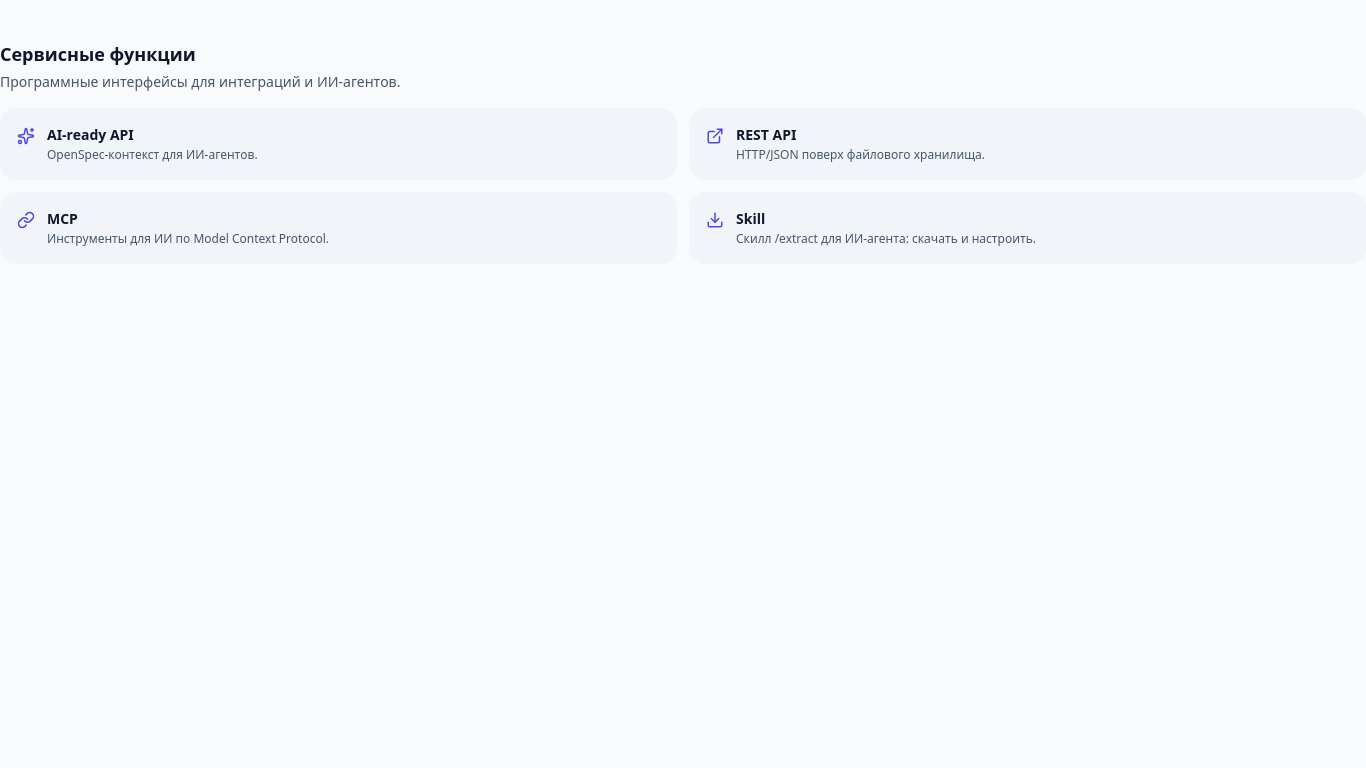
ServicesSection (E13 · revised — Start screen) › opens the AI-ready API screen with the openspec format hint
Click the button with test id "service-open-ai" at (90, 134), box x1=0 y1=108 x2=677 y2=180
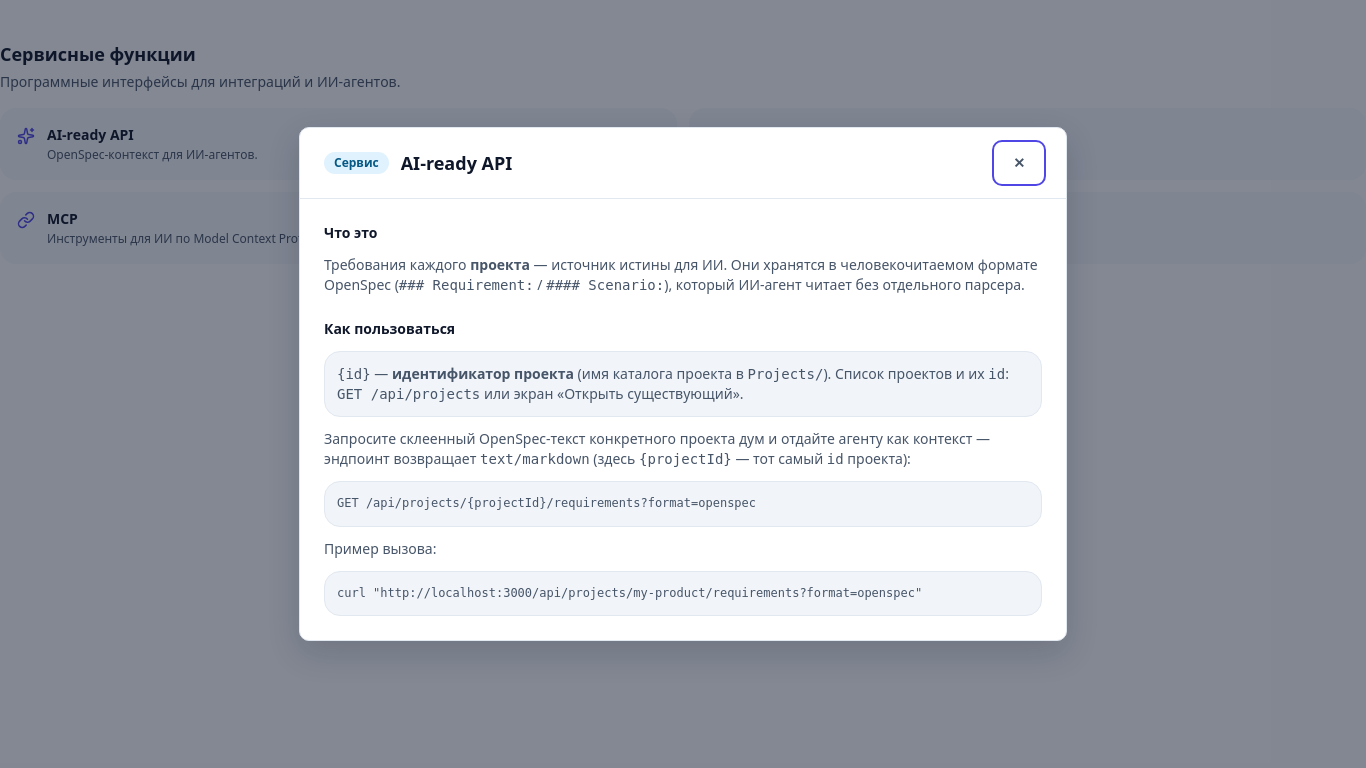
Expected: the heading with test id "service-screen-title" reads "AI-ready API", x1=401 y1=151 x2=512 y2=175
Expected: the dialog with test id "service-screen" shows "projectId", x1=639 y1=451 x2=732 y2=467
Expected: the element with test id "identifiers-note" is shown, x1=324 y1=351 x2=1042 y2=417
